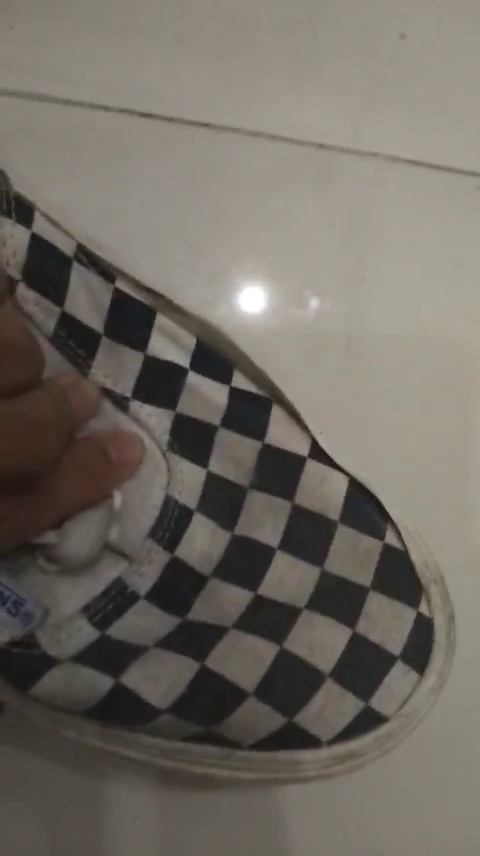bonding: (81, 243, 319, 439)
